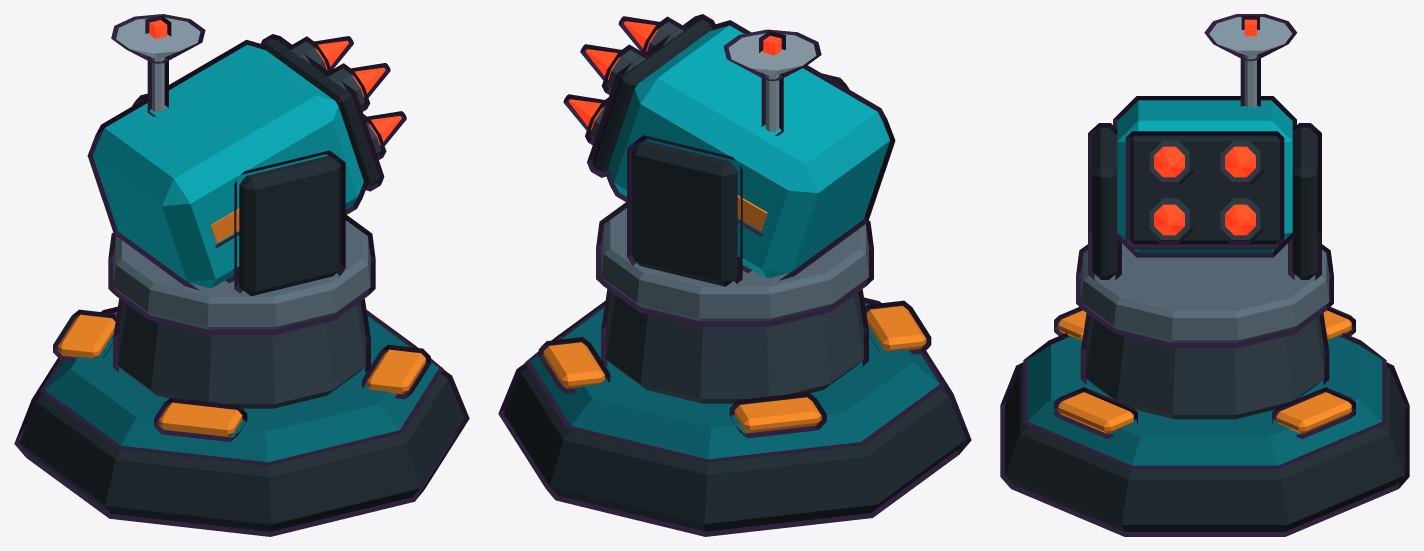
The model's file is MissileLauncher.glb.
3 views of the same model, side by side, from view 1: azimuth 30°, elevation 25°; view 2: azimuth 150°, elevation 25°; view 3: azimuth 270°, elevation 25° (orthographic). The views are drawn at different scales.
Visible parts, largest first — view 1: MissileLauncher_GAME_Base, MissileLauncher_GAME_Head; view 2: MissileLauncher_GAME_Base, MissileLauncher_GAME_Head; view 3: MissileLauncher_GAME_Base, MissileLauncher_GAME_Head.
Boxes of the visible parts, left/top/right/bottom form: MissileLauncher_GAME_Base: left=14, top=215, right=469, bottom=536; MissileLauncher_GAME_Head: left=87, top=14, right=406, bottom=296; MissileLauncher_GAME_Base: left=498, top=202, right=971, bottom=536; MissileLauncher_GAME_Head: left=563, top=14, right=895, bottom=286; MissileLauncher_GAME_Base: left=1000, top=243, right=1409, bottom=536; MissileLauncher_GAME_Head: left=1088, top=14, right=1321, bottom=280.
Bounding box in the file's own units: 0.9816 × 1.08 × 0.9816.
